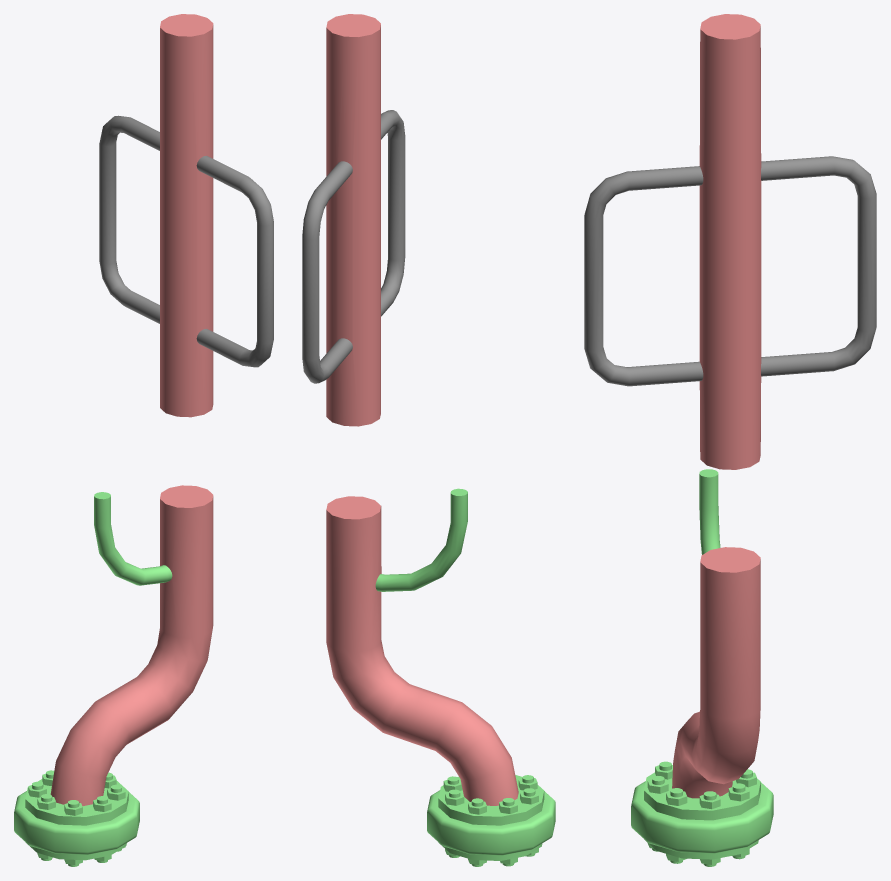
File: SM_SUG_All_Right_04_2.gltf
The picture shows the model from 3 angles, left to right: view 1: azimuth 30°, elevation 25°; view 2: azimuth 150°, elevation 25°; view 3: azimuth 270°, elevation 25°; orthographic projection. The views are drawn at different scales.
Parts seen in each view (by area): view 1: SM_SUG_All_Right_04_2; view 2: SM_SUG_All_Right_04_2; view 3: SM_SUG_All_Right_04_2.
Part boxes in pixels (left/top/right/bottom): SM_SUG_All_Right_04_2: left=14, top=14, right=273, bottom=866; SM_SUG_All_Right_04_2: left=302, top=14, right=555, bottom=866; SM_SUG_All_Right_04_2: left=584, top=14, right=876, bottom=866.
Size of the model in its own units: 0.1873 by 0.6929 by 0.2072.
